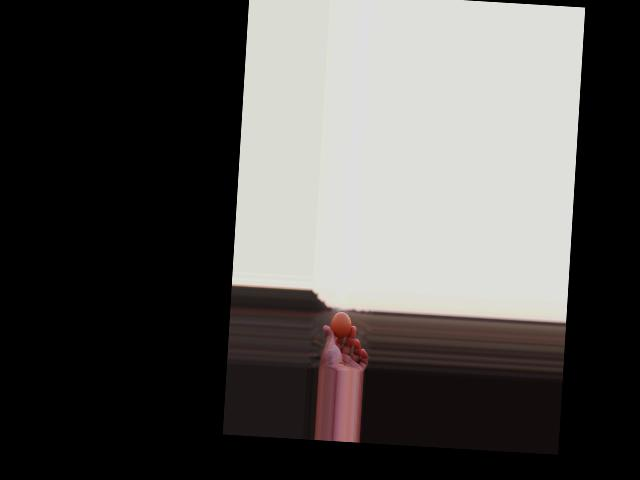egg: (330, 311, 352, 337)
